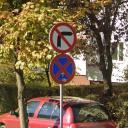NoVirarDireita: (47, 21, 77, 56)
